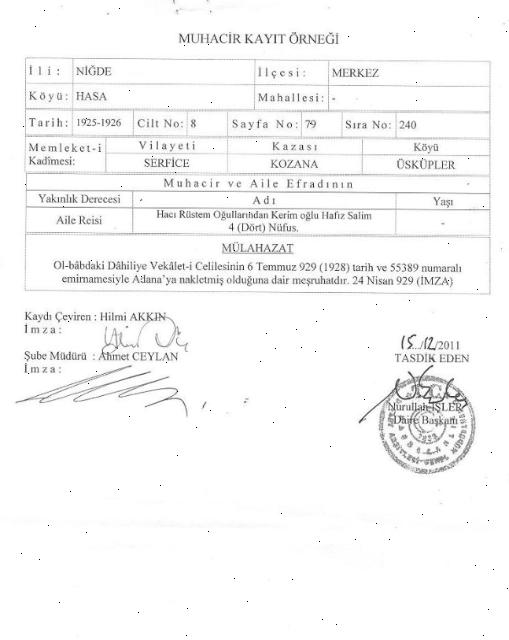stamp: (377, 374, 476, 476)
